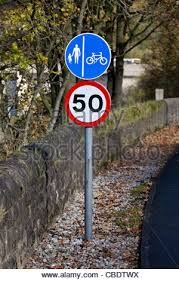Speed_limit_50km: (64, 80, 112, 128)
